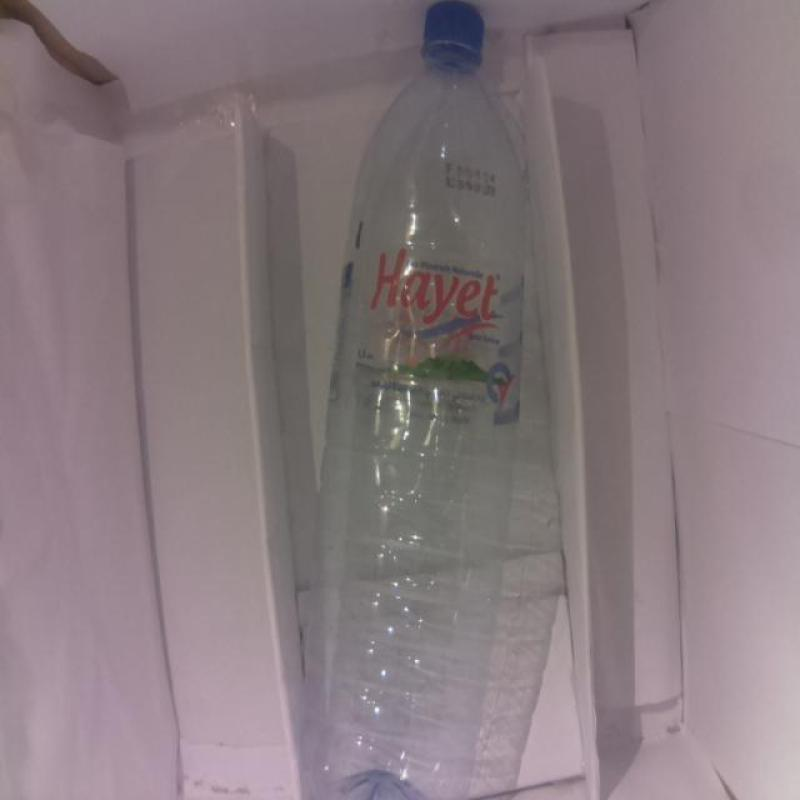botella: (301, 0, 525, 800)
